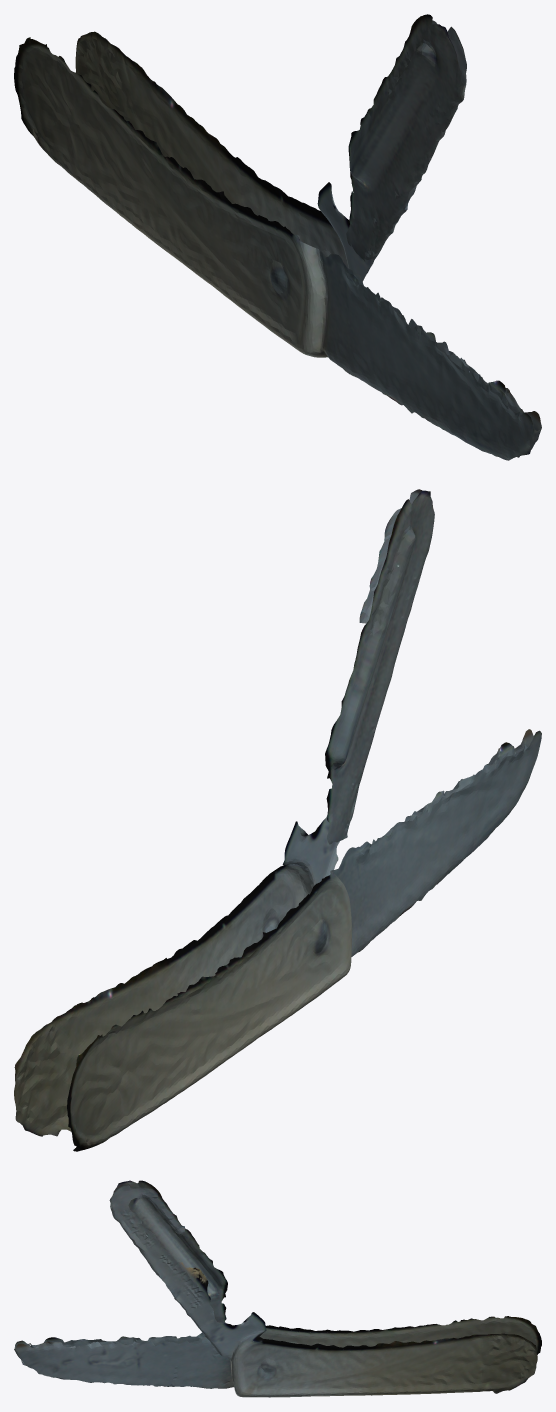
Rendered from scan_align.obj.
3 views of the same model, one above another, from view 1: azimuth 30°, elevation 25°; view 2: azimuth 150°, elevation 25°; view 3: azimuth 270°, elevation 25° (orthographic). The views are drawn at different scales.
Size of the model in its own units: 0.0121 by 0.0784 by 0.1735.
1 material, 1 textured.
